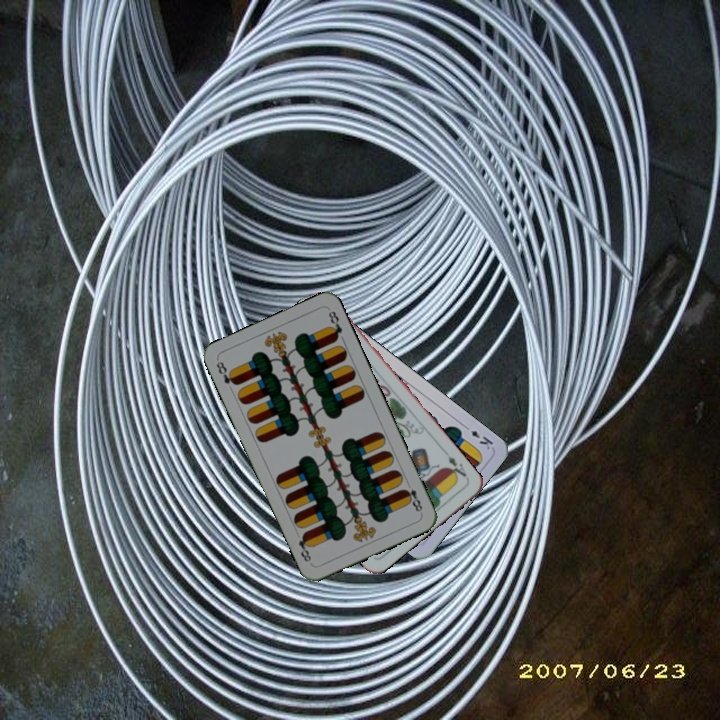E8: (212, 357, 240, 388), (399, 484, 425, 516)
EA: (441, 448, 471, 484)
EK: (459, 421, 496, 452)
